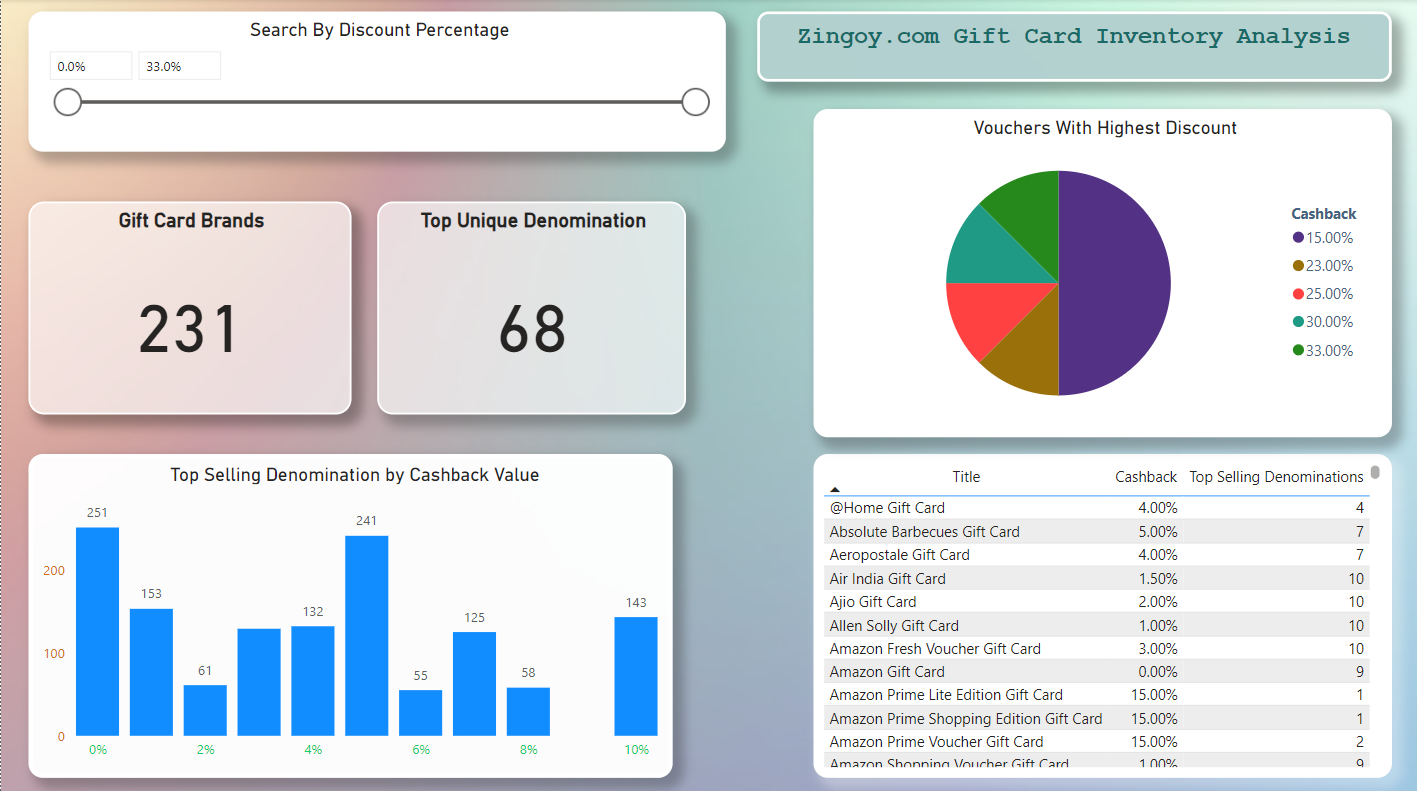

Layout of this report page (visuals, bound fields, positions):
{"tool":"powerbi","page":{"name":"Inventory Analysis","canvas":[1280,720],"ordinal":0},"visuals":[{"type":"card","title":"Gift Card Brands","fields":{"Values":["Count(tf_gc.id)"]},"box":[24.7,182.5,290.9,192.1],"z":0},{"type":"card","title":"Top Unique Denomination","fields":{"Values":["Count(tf_gc.Top Selling Denonimations)"]},"box":[338.9,182.5,278.6,192.1],"z":1000},{"type":"columnChart","title":"Top Selling Denomination by Cashback Value","fields":{"Category":["tf_gc.cashback"],"Y":["tf_gc.TopSellingDenominationCount"]},"box":[24.7,410.3,580.4,292.3],"z":2000},{"type":"tableEx","fields":{"Values":["tf_gc.title","tf_gc.cashback","tf_gc.TopSellingDenominationCount"]},"box":[732.8,410.3,521.4,292.3],"z":3000},{"type":"pieChart","title":"Vouchers With Highest Discount","fields":{"Category":["tf_gc.cashback"],"Y":["Count(tf_gc.title)"]},"box":[732.8,98.8,521.4,296.4],"z":4000},{"type":"slicer","title":"Filter By Discount Percentage","fields":{"Values":["tf_gc.cashback"]},"box":[24.7,11,628.5,126.2],"z":5000},{"type":"textbox","box":[682,11,572.2,63.1],"z":6000}]}

Visuals, with their boxes in screenshot pixels (x1, y1, x2, y2), scaled from the page's 1280x720 canvas onto the 1417x791 screenshot:
"Gift Card Brands" card: region(27, 200, 349, 412)
"Top Unique Denomination" card: region(375, 200, 684, 412)
"Top Selling Denomination by Cashback Value" columnChart: region(27, 451, 670, 772)
tableEx - tf_gc.title x tf_gc.cashback: region(811, 451, 1388, 772)
"Vouchers With Highest Discount" pieChart: region(811, 109, 1388, 434)
"Filter By Discount Percentage" slicer: region(27, 12, 723, 151)
textbox: region(755, 12, 1388, 81)
